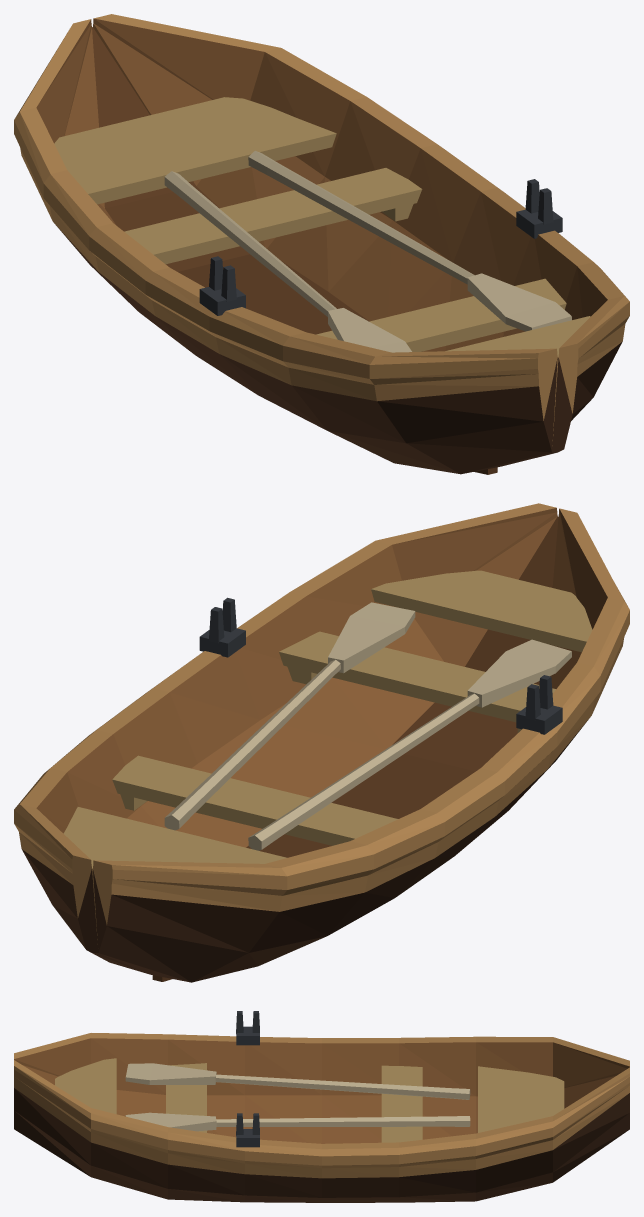
File: rowboat-c42d85.glb
The picture shows the model from 3 angles, top to bottom: view 1: azimuth 30°, elevation 25°; view 2: azimuth 150°, elevation 25°; view 3: azimuth 270°, elevation 25°; orthographic projection. The views are drawn at different scales.
Parts seen in each view (by area): view 1: hull; view 2: hull; view 3: hull.
Boxes of the visible parts, x1,y1,x2,y2 form: hull: (14,14,629,474); hull: (14,503,629,982); hull: (14,1011,629,1202).
Size of the model in its own units: 1.34 by 0.7149 by 3.
